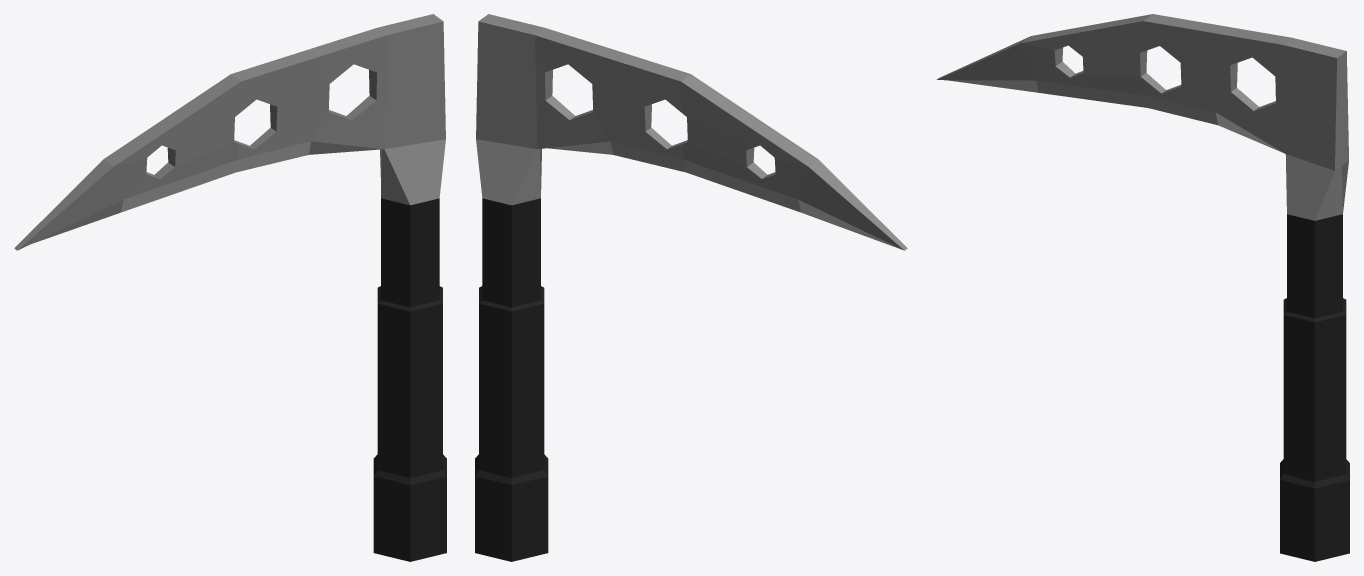
File: Sickle.fbx
3 renders of one model, left to right at view 1: azimuth 30°, elevation 25°; view 2: azimuth 150°, elevation 25°; view 3: azimuth 330°, elevation 25°, orthographic. The views are drawn at different scales.
Parts seen in each view (by area): view 1: Kama; view 2: Kama; view 3: Kama.
Part boxes in pixels (left/top/right/bottom): Kama: left=14, top=14, right=446, bottom=561; Kama: left=475, top=14, right=907, bottom=561; Kama: left=936, top=14, right=1349, bottom=561.
Size of the model in its own units: 27.93 by 32.16 by 4.1.
